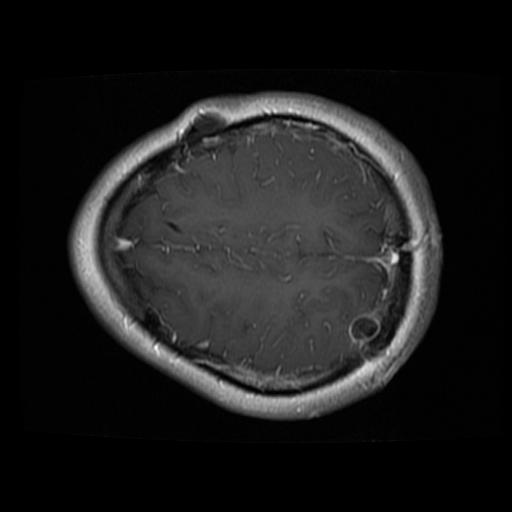glioma: (346, 309, 381, 347)
